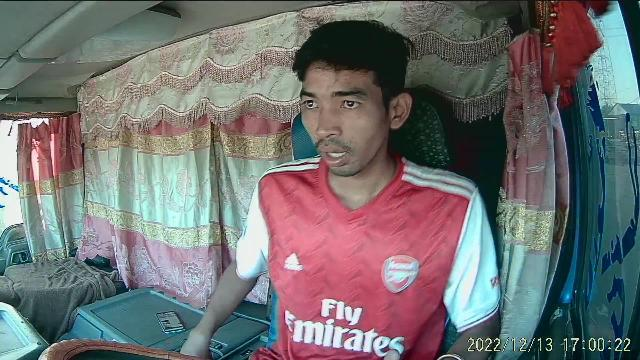PhoneUse: (153, 308, 187, 336)
SafeDriving: (334, 92, 366, 114), (296, 93, 324, 114)
